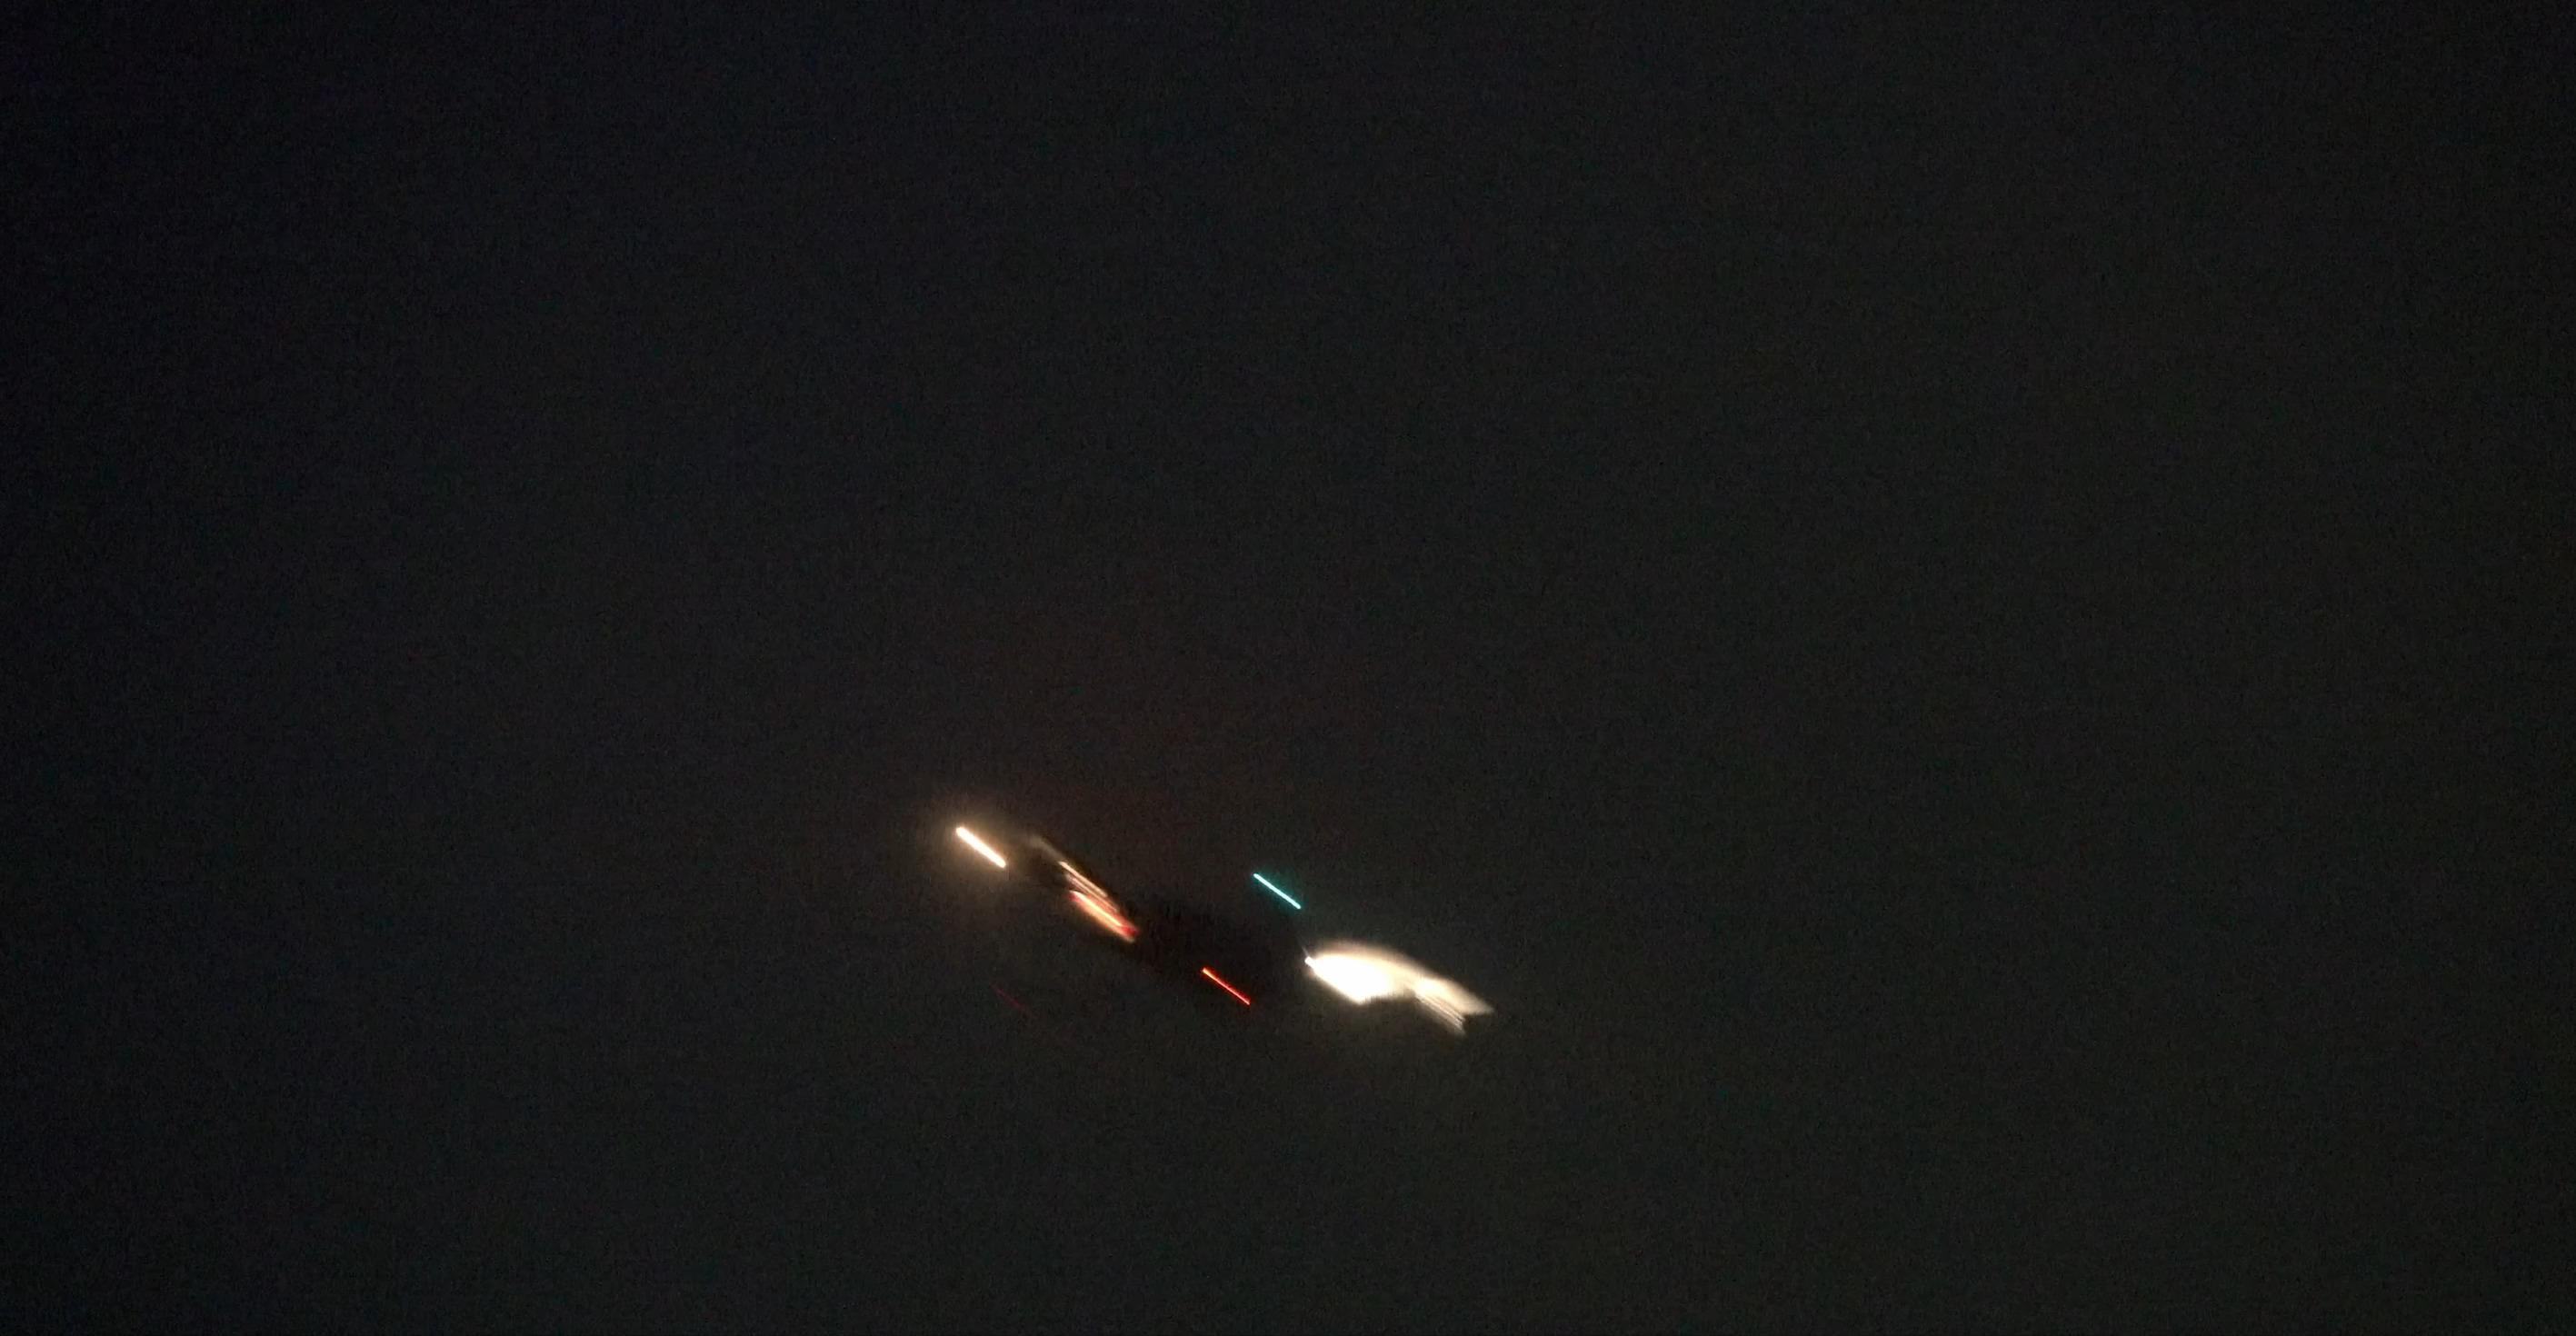Plane: (1049, 844, 1624, 1082)
